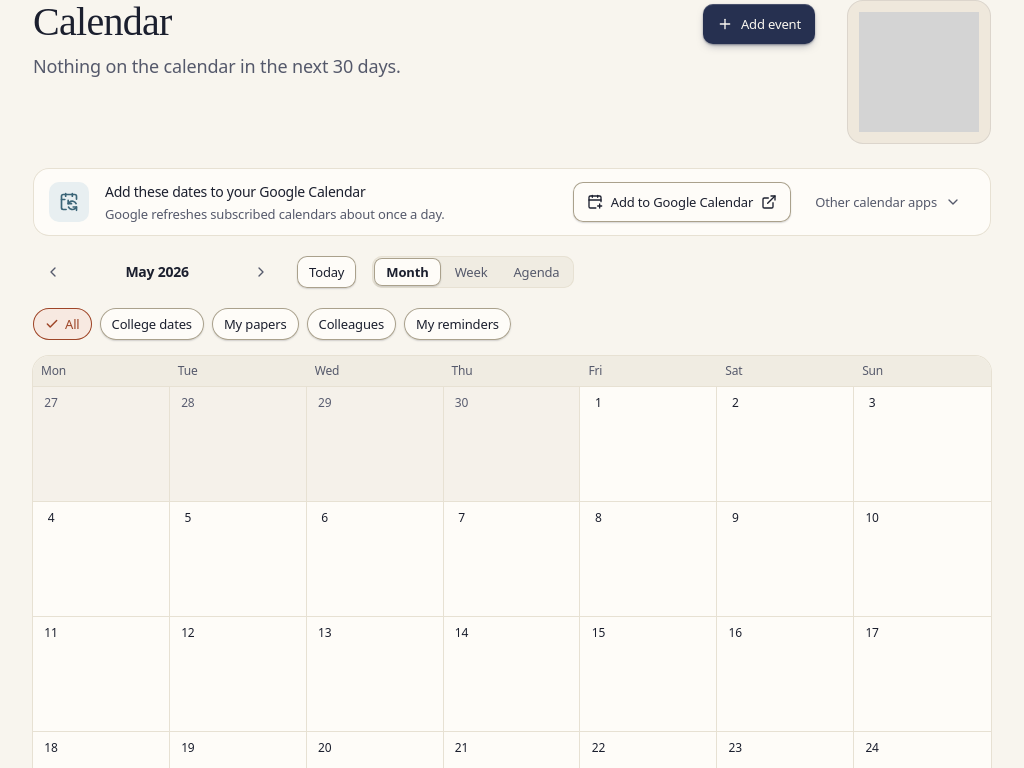
Test: Add event › keeps the rest out of the way until asked, then offers a time
This screenshot has width=1024, height=768.
What coordinates should you click on to do the following:
click the button "14"
I would click on:
 (462, 633)
Its box is [450,621,474,645].
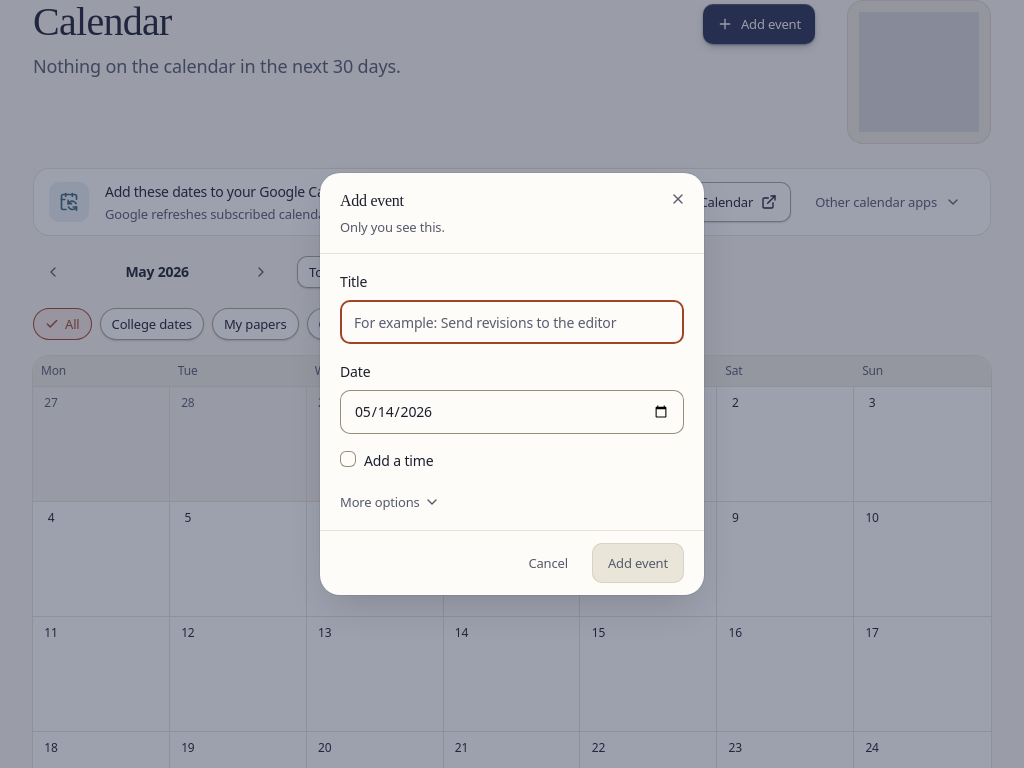
Check: the field labelled "Notes" is not shown
Check: the field labelled "From" is not shown
What coordinates should you click on to do the following:
click the checkbox named "Add a time"
I would click on:
 (348, 459)
Its box is [340,451,356,467].
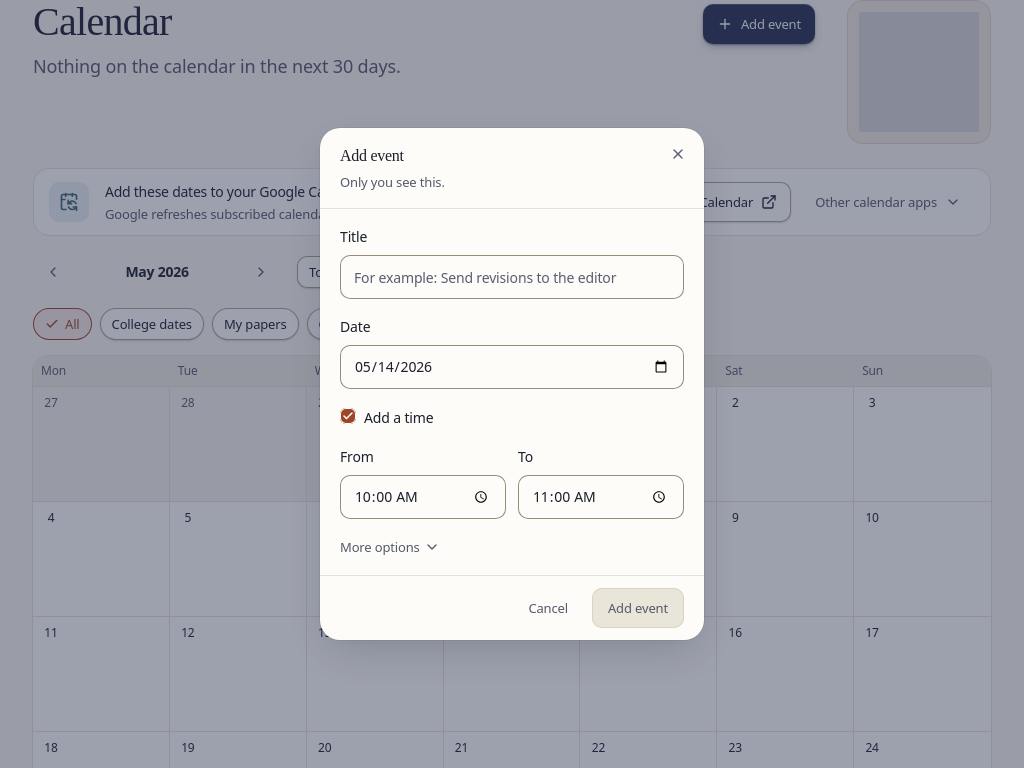
Check: the time field labelled "From" holds "10:00", box [340,475,506,519]
What coordinates should you click on to do the following:
click the button "More options"
I would click on:
 (390, 547)
Its box is [340,537,440,557].
(page scrolled)
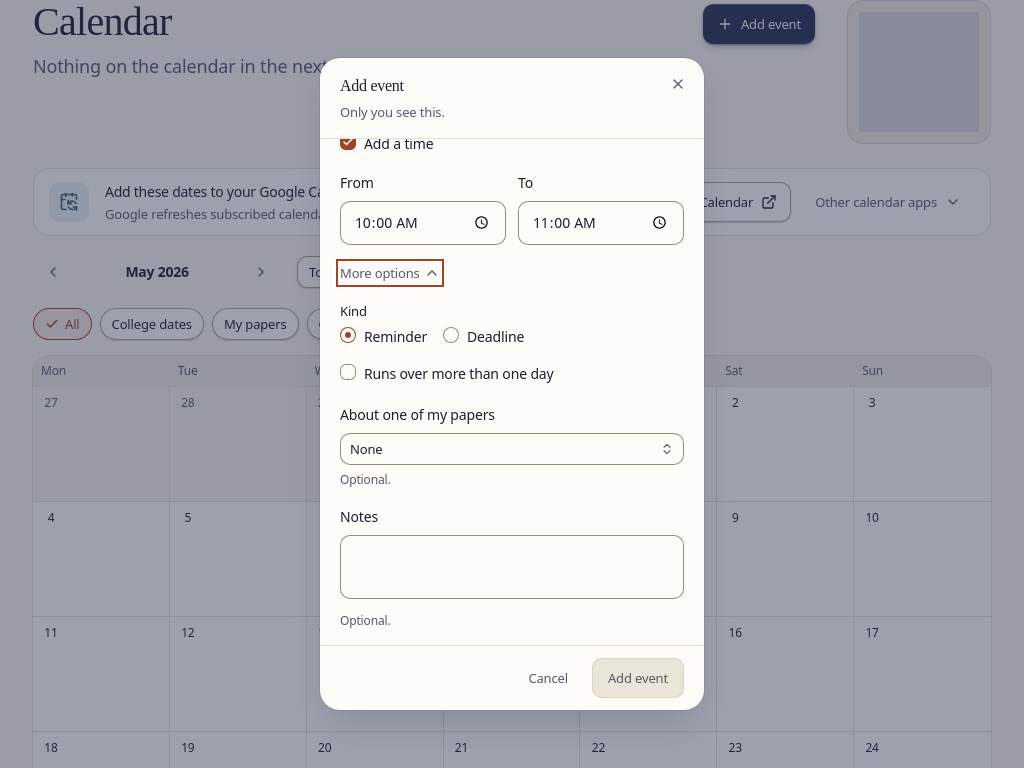
Check: the text box labelled "Notes" is shown, box [340,535,684,599]
